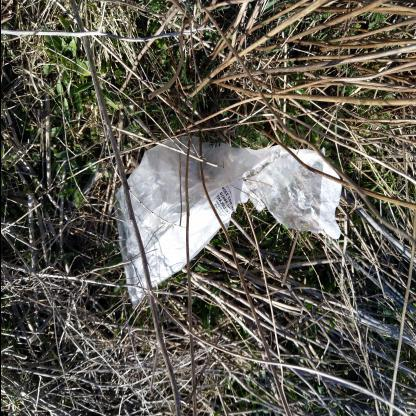plastik: (114, 135, 342, 307)
